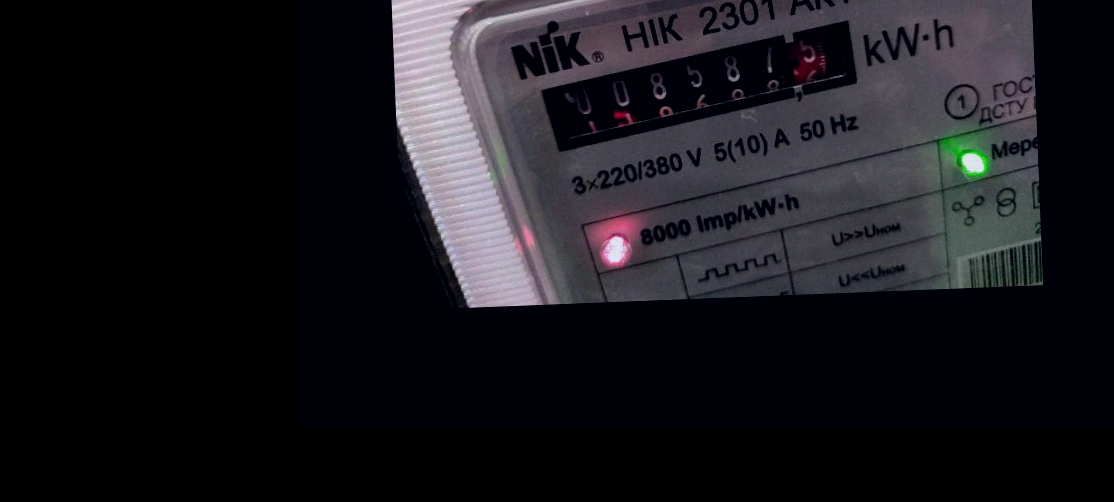0: (608, 73, 635, 108), (570, 82, 598, 115)
5: (684, 57, 708, 89), (797, 30, 820, 62)
6: (803, 65, 822, 83)
7: (758, 41, 781, 76)
8: (720, 49, 745, 83), (647, 67, 672, 100)
screen: (531, 17, 883, 153)
